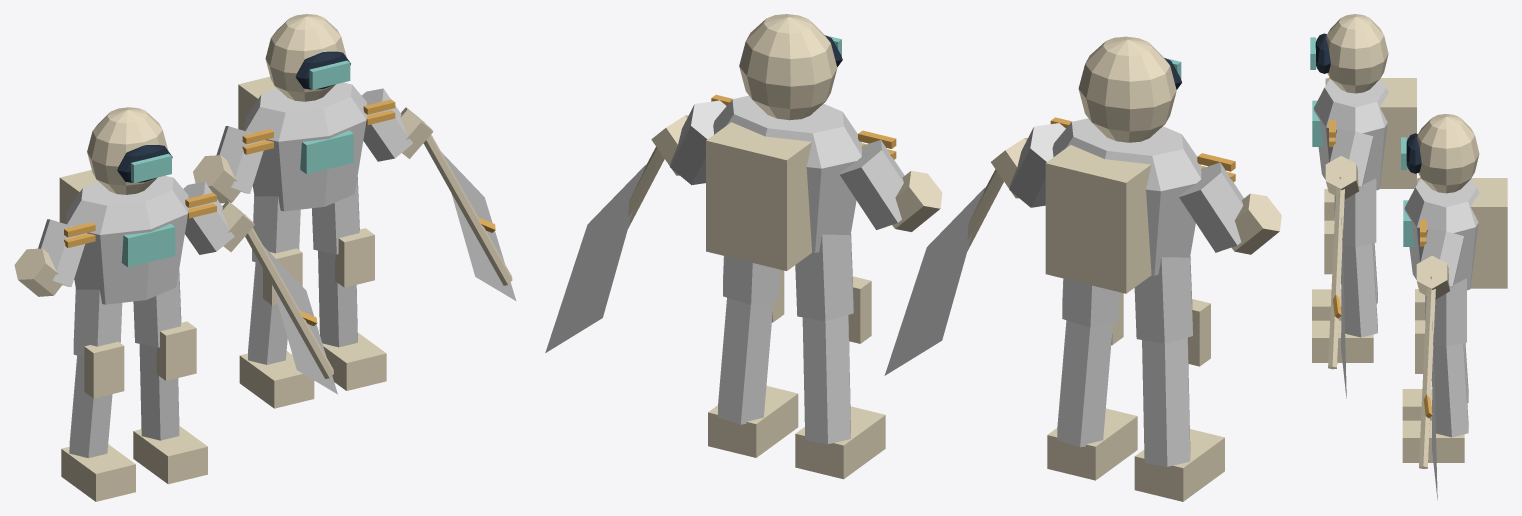
The model's file is space_knight_l2_inactive.glb.
3 renders of one model, left to right at view 1: azimuth 30°, elevation 25°; view 2: azimuth 150°, elevation 25°; view 3: azimuth 270°, elevation 25°, orthographic. The views are drawn at different scales.
Parts seen in each view (by area): view 1: WoodBody, FixedDetails, BrassTrim; view 2: WoodBody, FixedDetails, BrassTrim; view 3: FixedDetails, WoodBody, BrassTrim.
Boxes of the visible parts, x1,y1,x2,y2 form: WoodBody: (38, 82, 516, 458); FixedDetails: (14, 14, 433, 501); BrassTrim: (64, 99, 512, 378); WoodBody: (545, 95, 1243, 466); FixedDetails: (651, 14, 1281, 501); BrassTrim: (628, 94, 1235, 251); FixedDetails: (1310, 14, 1507, 462); WoodBody: (1313, 79, 1479, 499); BrassTrim: (1328, 77, 1435, 468).
Size of the model in its own units: 0.6266 by 0.3906 by 0.2175.
